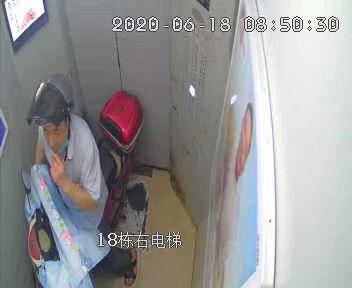Electric-bicycle: (25, 89, 143, 283)
